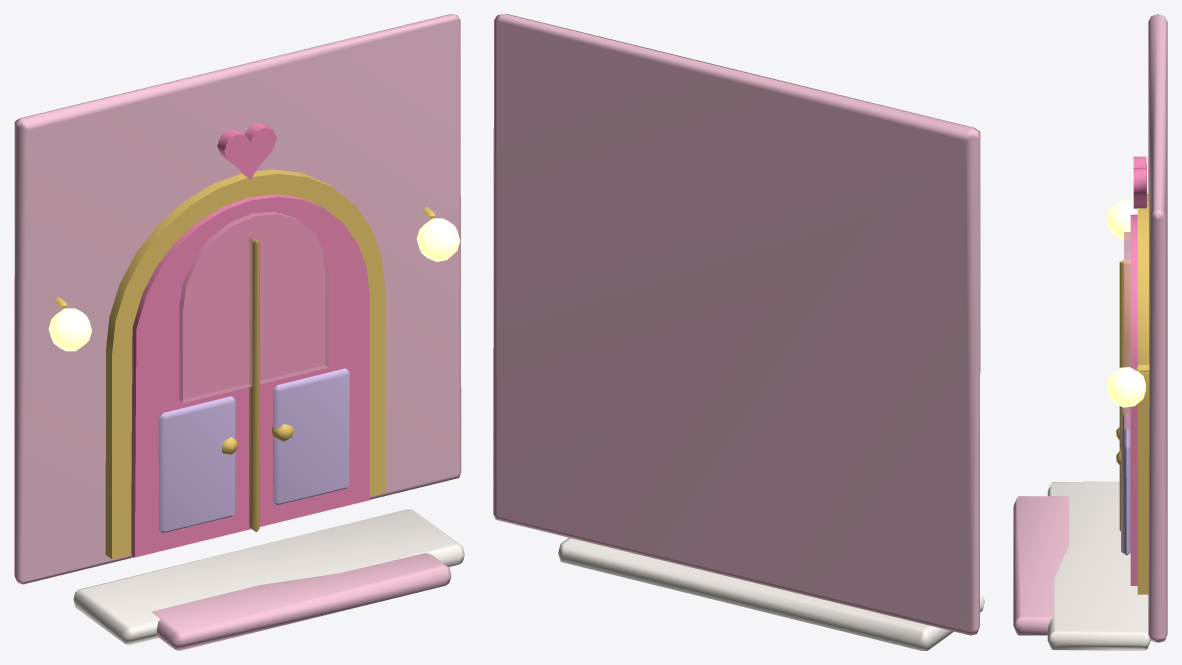
Rendered from facade_door.glb.
The picture shows the model from 3 angles, left to right: view 1: azimuth 30°, elevation 25°; view 2: azimuth 150°, elevation 25°; view 3: azimuth 270°, elevation 25°; orthographic projection. The views are drawn at different scales.
Parts seen in each view (by area): view 1: facade_door; view 2: facade_door; view 3: facade_door.
Boxes of the visible parts, left/top/right/bottom form: facade_door: left=14, top=14, right=464, bottom=650; facade_door: left=493, top=14, right=984, bottom=650; facade_door: left=1013, top=14, right=1167, bottom=650.
Size of the model in its own units: 3.5 by 3.75 by 1.13.
